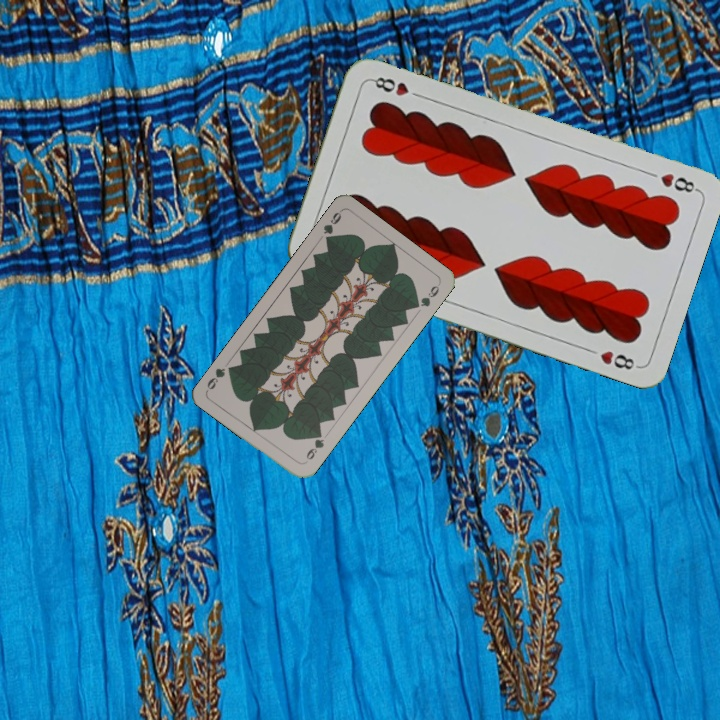G9: (300, 428, 327, 466), (319, 207, 344, 246)
H8: (656, 169, 701, 196)
